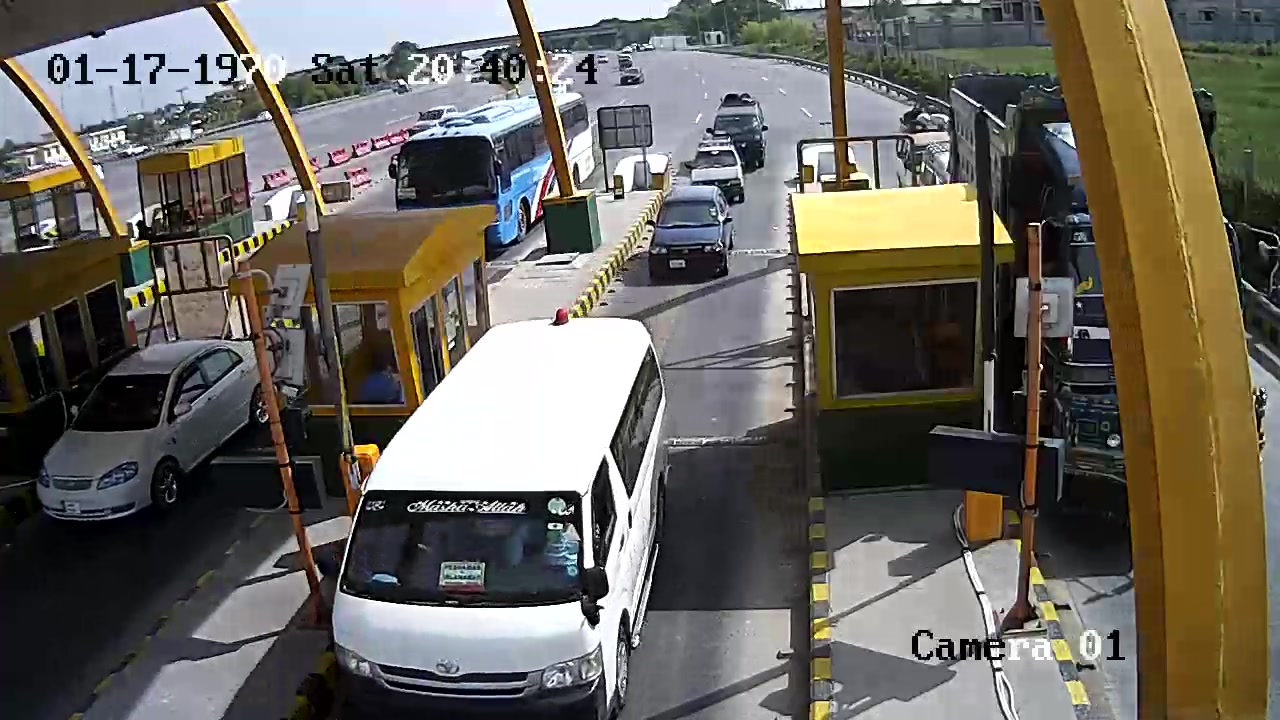F3: (329, 312, 665, 718)
